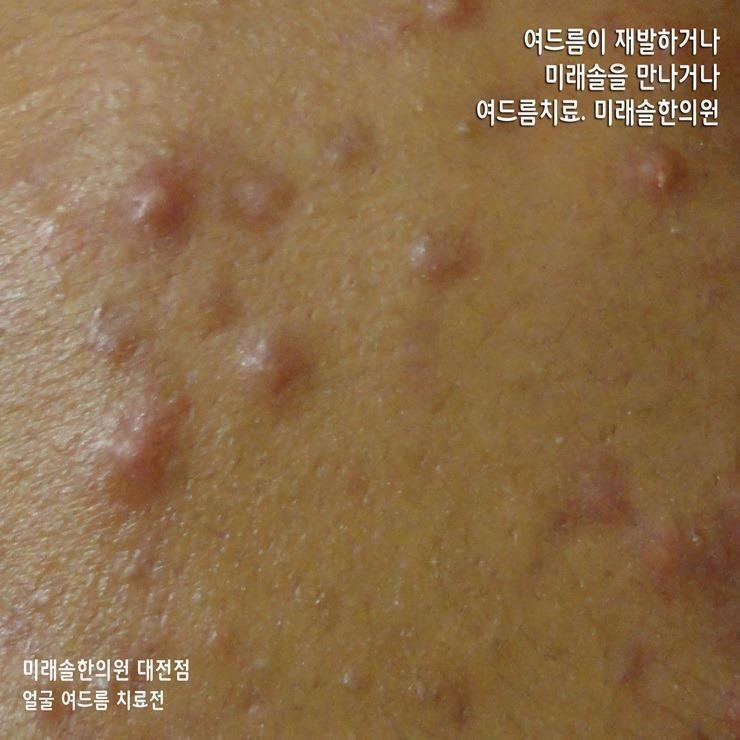blackhead: (241, 649, 285, 698)
milium: (534, 419, 581, 465)
papular: (78, 383, 193, 513)
purulent: (115, 167, 198, 252), (227, 320, 303, 409)
whitehead: (446, 108, 478, 162)
